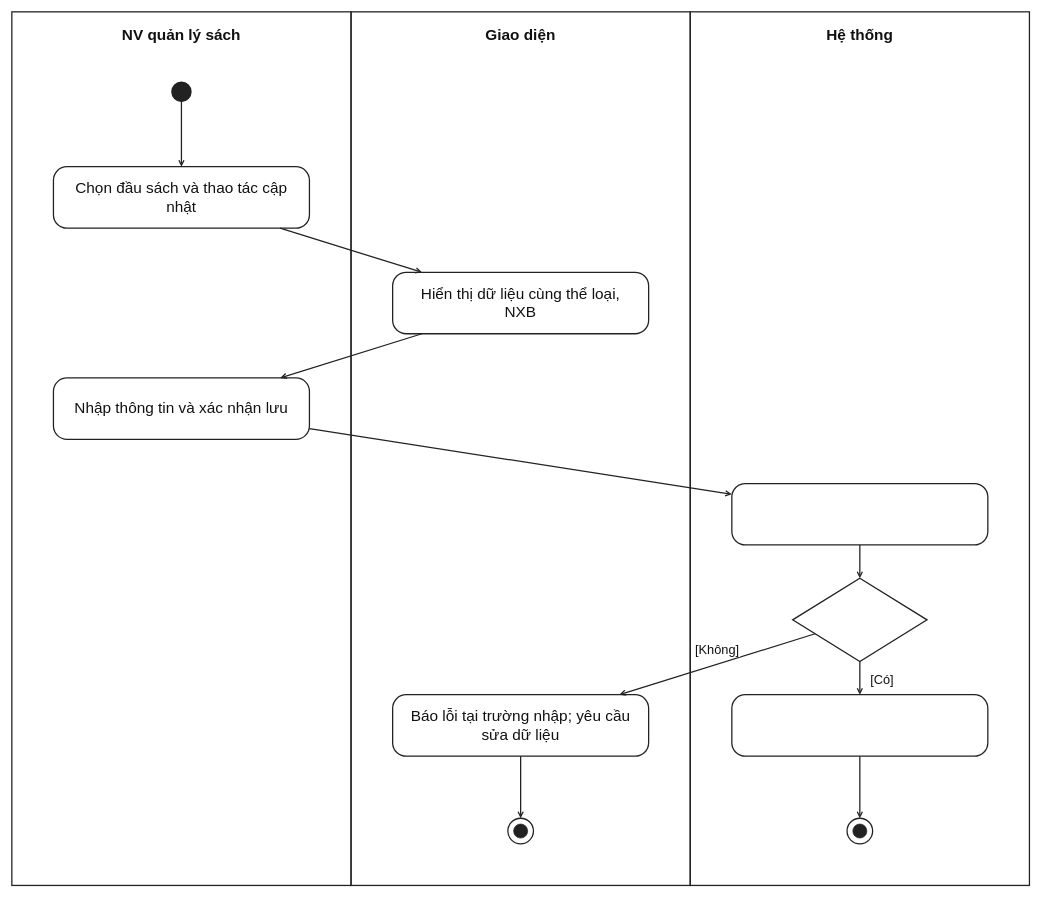
The diagram is 1041 pixels wide and 897 high, and some of its shapes have lost their labels. Here are the shapes that lost their labels. From the top down, the centre of each, then its label:
the point at 859,514: Kiểm tra mã, dữ liệu và liên kết danh mục
the point at 859,619: Hợp lệ?
the point at 859,725: Lưu đầu sách; tải lại danh sách
